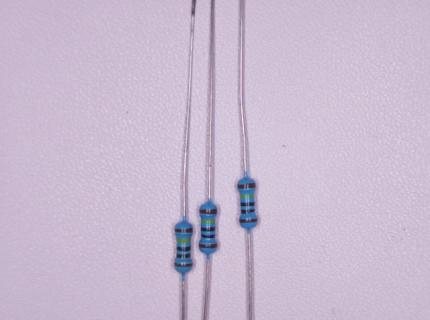Black band: (176, 246, 191, 251), (241, 201, 255, 206), (201, 227, 215, 232), (241, 209, 254, 214), (201, 234, 215, 238), (177, 254, 191, 258)
Brown band: (200, 208, 217, 215), (238, 183, 255, 189), (199, 244, 217, 249), (175, 228, 192, 233), (240, 219, 258, 223), (175, 263, 192, 267)
Yellow band: (240, 194, 255, 198), (177, 239, 191, 243), (201, 219, 215, 223)
